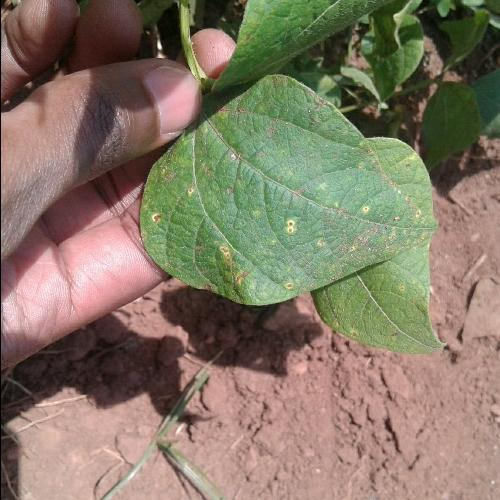embun tepung: (146, 170, 235, 266), (346, 184, 412, 294), (256, 182, 337, 256)
